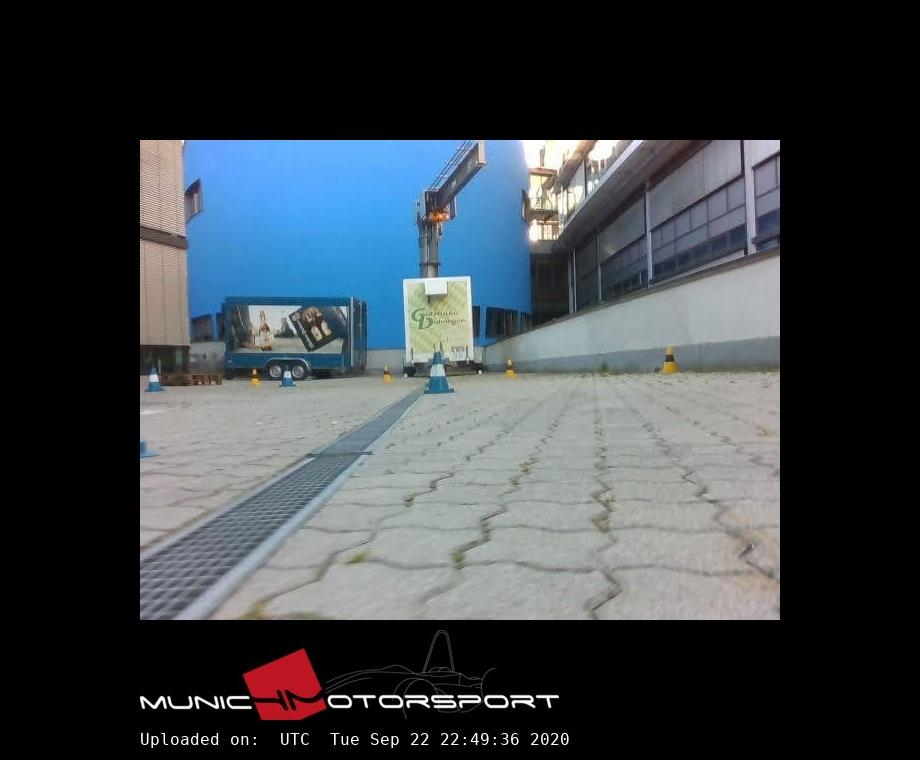blue_cone: (422, 353, 455, 394), (145, 368, 164, 392), (279, 366, 296, 387)
yellow_cone: (660, 349, 677, 373), (504, 360, 516, 378), (249, 370, 261, 385), (382, 367, 391, 382)
